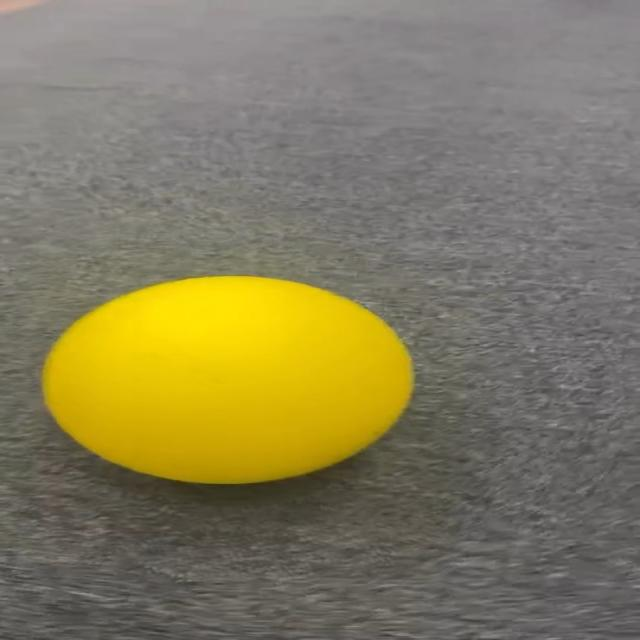Fuels: (43, 272, 410, 481)
